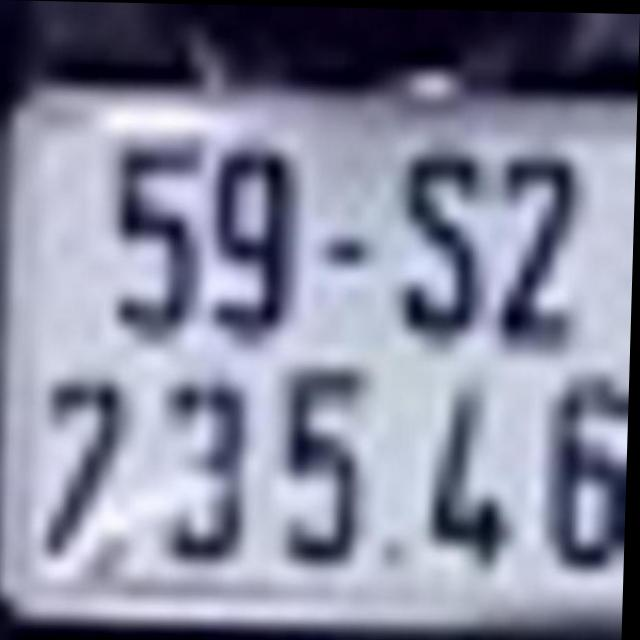2: (496, 145, 593, 332)
3: (167, 378, 263, 557)
4: (423, 362, 518, 566)
5: (108, 128, 198, 336), (283, 356, 371, 562)
6: (535, 356, 631, 568)
7: (36, 368, 131, 565)
9: (207, 133, 299, 342)
S: (398, 145, 490, 338)
